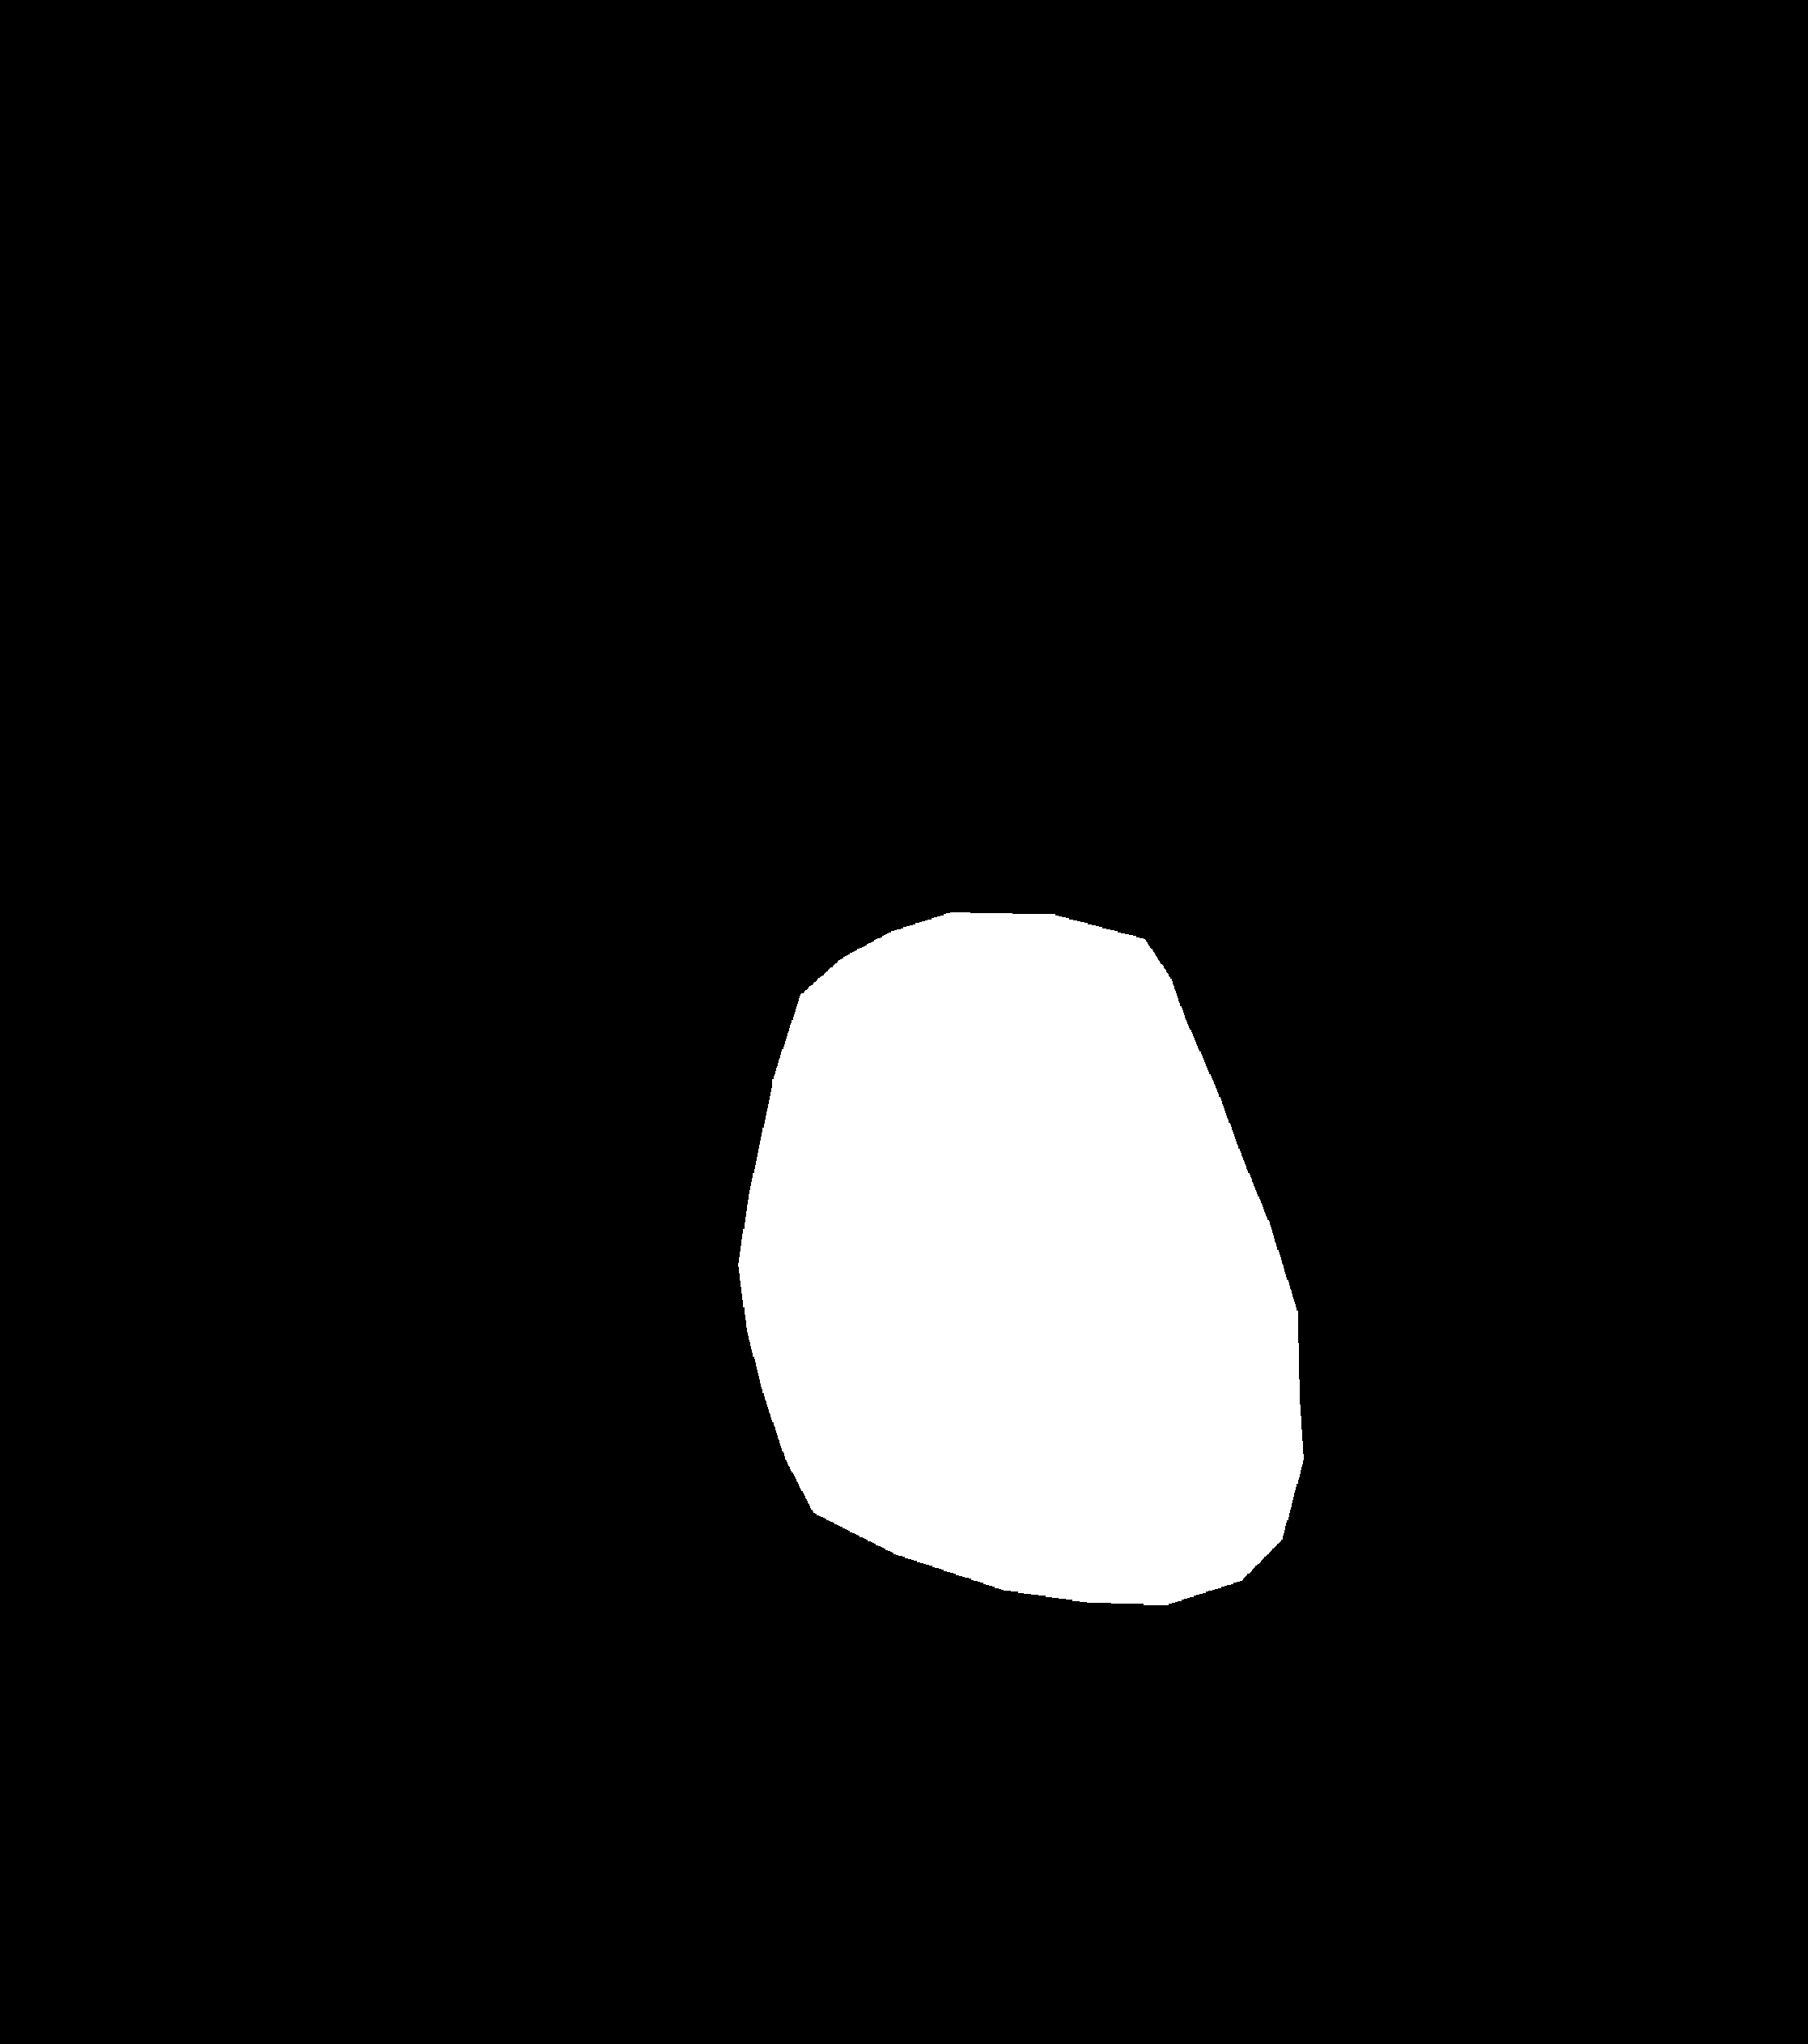heart: (742, 1072, 1302, 1602)
left_lung: (213, 216, 829, 1817)
right_lung: (1030, 209, 1613, 1742)
